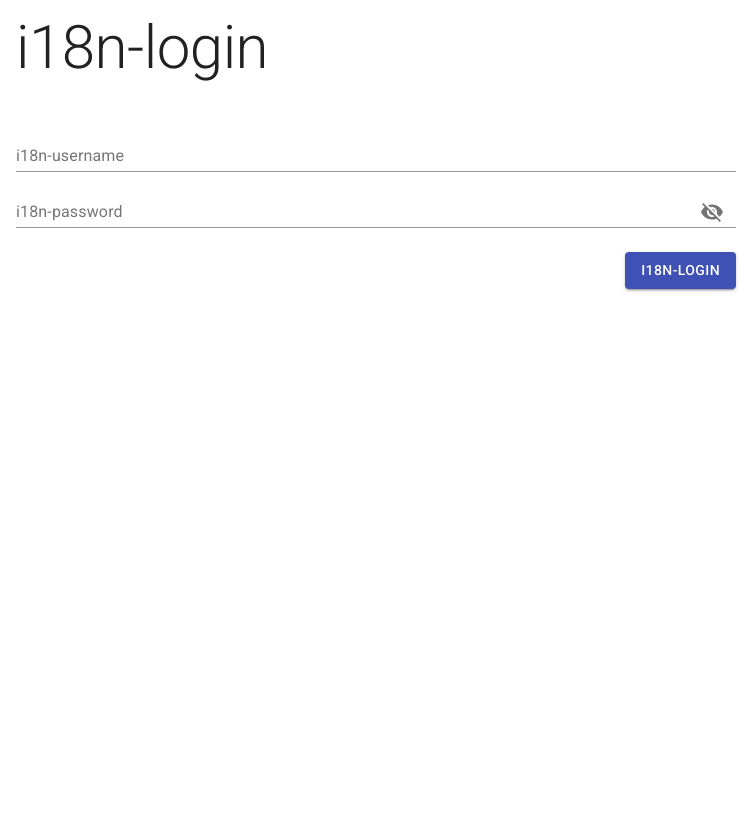
it: Login › Notifications › should display error notification if login failed
Type "johndoe" into the field labelled "i18n-username" at [376, 156], box [16,140,736,172]
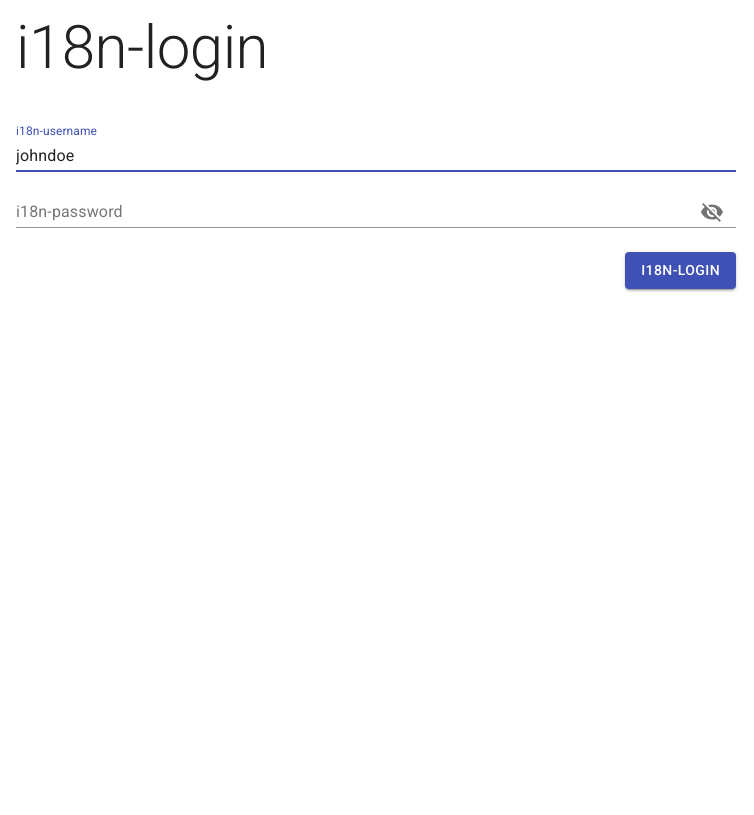
Type "secret" into the password field labelled "i18n-password" at [348, 212], box [16,196,680,228]
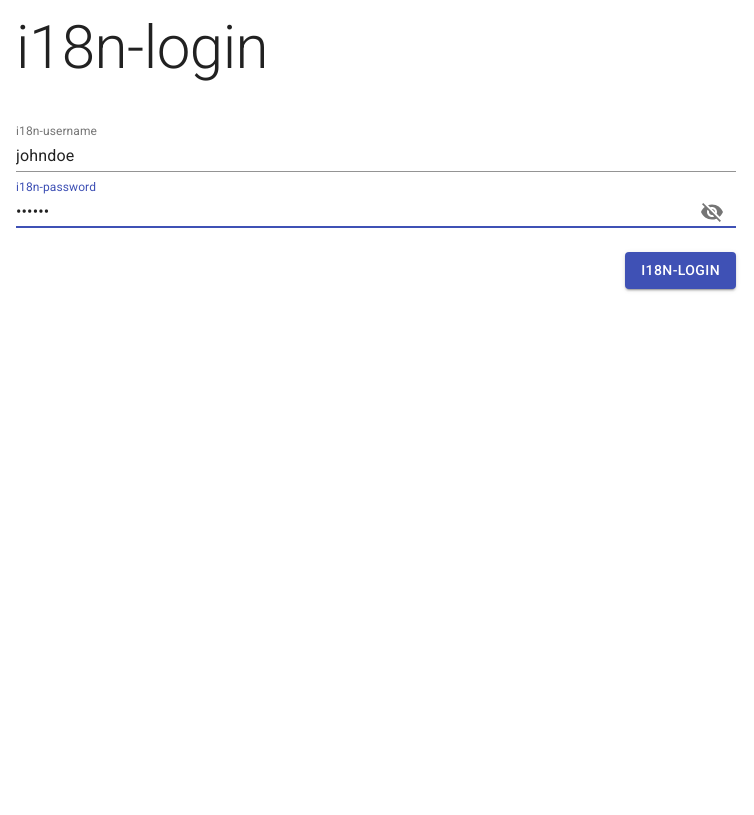
Click the button with test id "form-submit" at [681, 270], box [625,252,736,288]
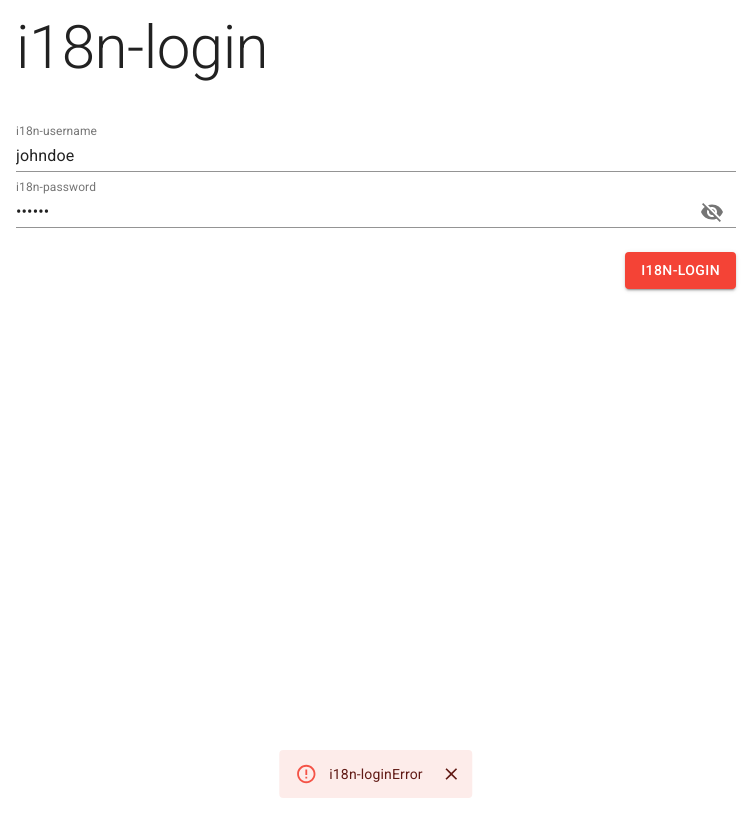
Expected: the text "i18n-loginError" is shown, [329,766,423,782]
Click the button named "Close" at [452, 774], box [439,761,465,787]
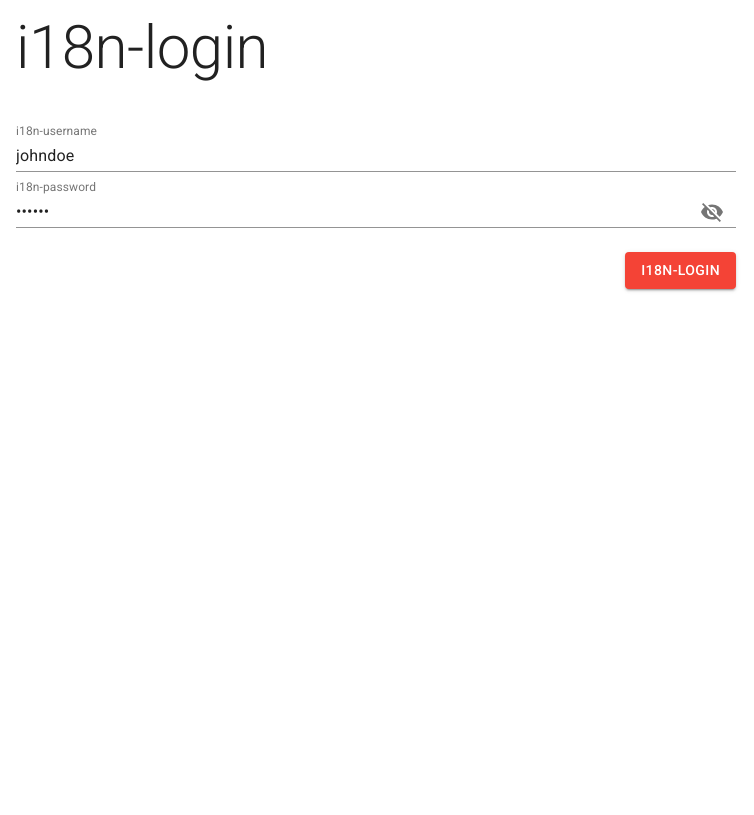
Expected: the text "i18n-loginError" is gone
